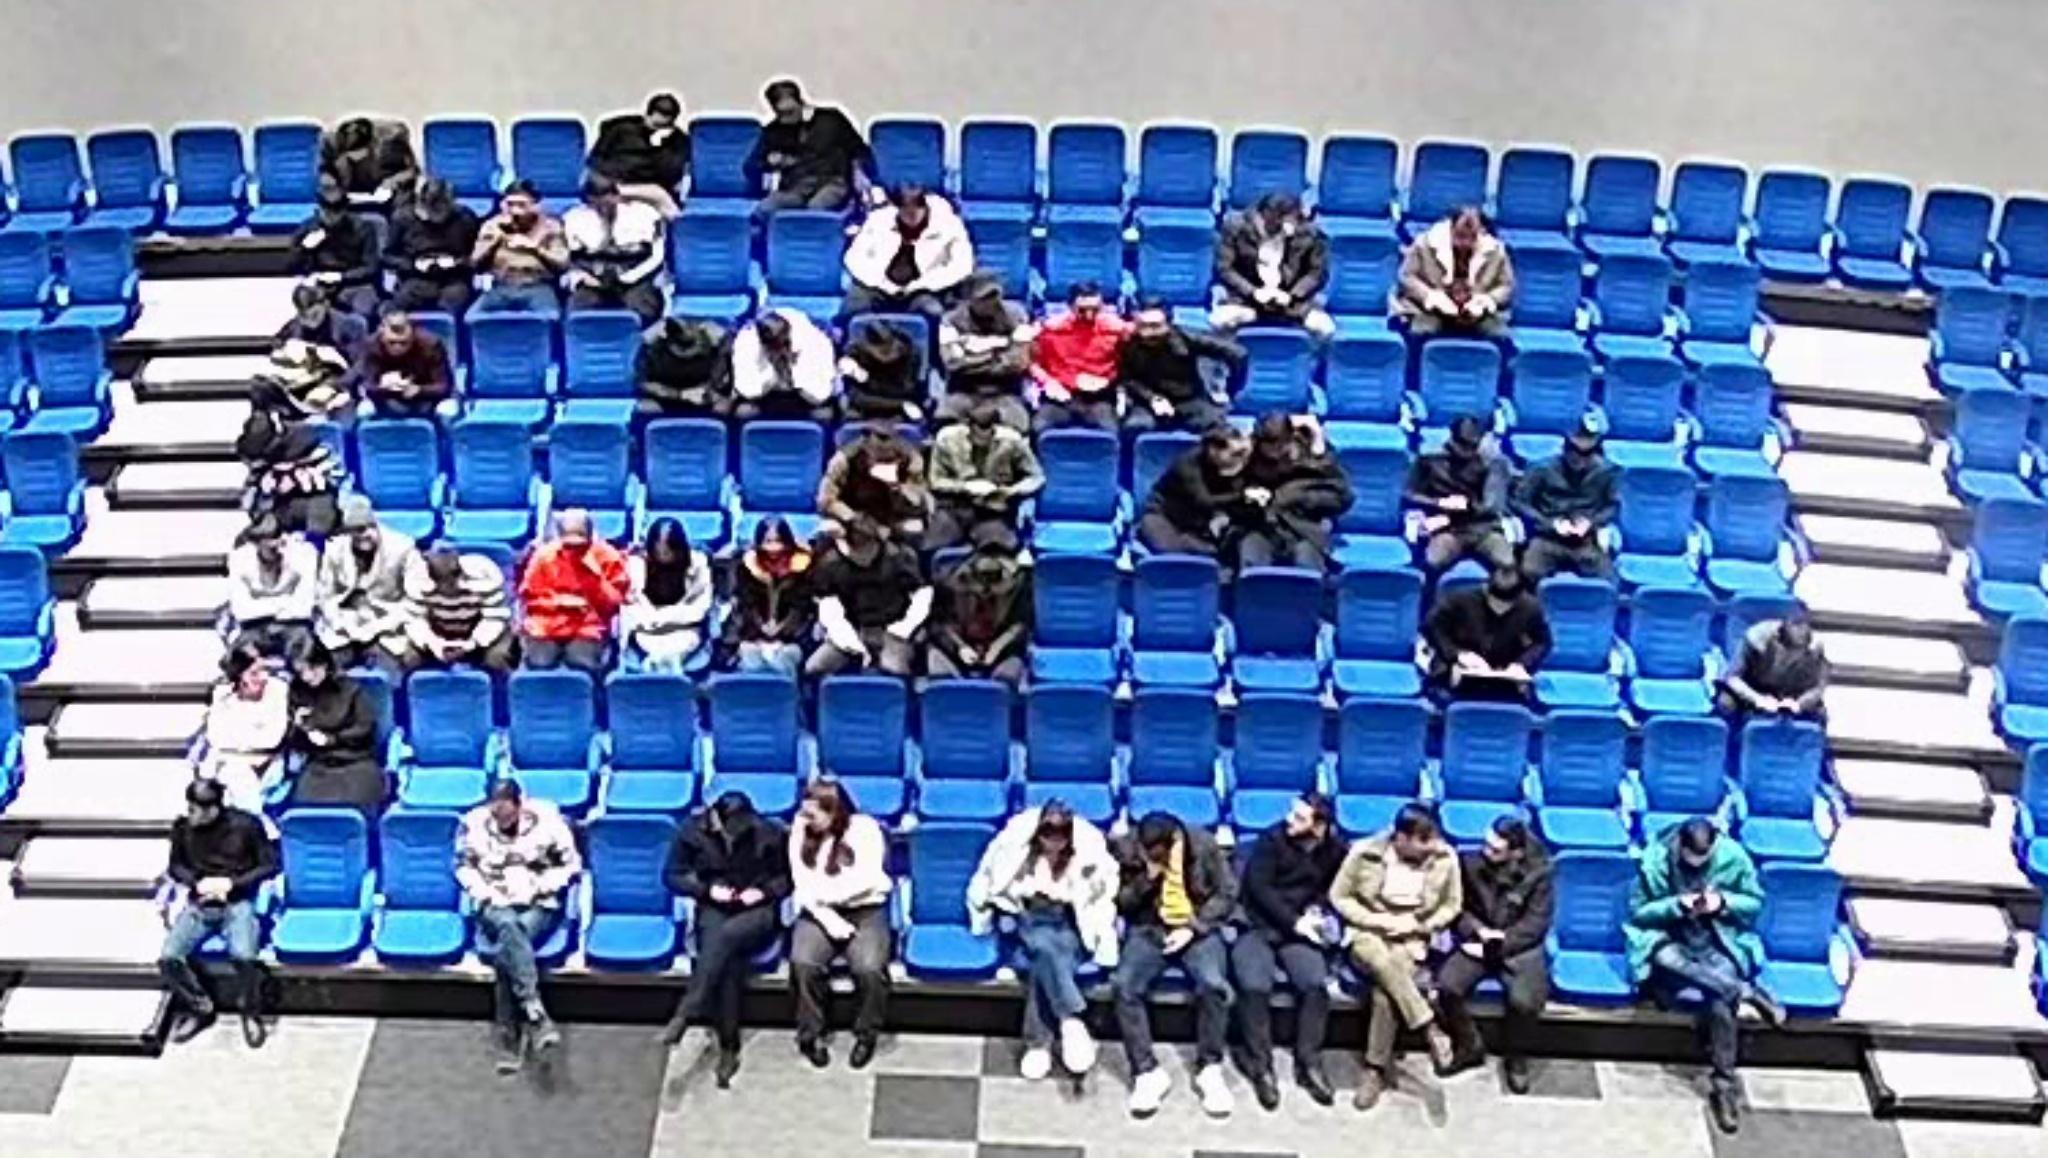empty: (902, 817, 1011, 981), (1743, 863, 1855, 1006), (267, 806, 371, 961), (1539, 846, 1641, 996), (373, 809, 471, 965), (581, 815, 684, 961), (1018, 680, 1117, 832), (913, 675, 1014, 822), (1122, 684, 1224, 823), (817, 668, 909, 817), (399, 670, 495, 812), (702, 675, 805, 808), (1696, 473, 1800, 601), (603, 674, 699, 812), (1436, 701, 1536, 832), (1227, 692, 1326, 822), (502, 666, 596, 802), (1229, 561, 1332, 687), (1618, 583, 1716, 711), (1335, 695, 1432, 823), (1030, 554, 1125, 682), (1532, 574, 1625, 705), (1129, 556, 1222, 684), (1328, 568, 1423, 692), (1319, 439, 1415, 563), (1030, 424, 1121, 549), (1682, 352, 1775, 474), (1962, 497, 2048, 629), (1611, 460, 1702, 584), (1594, 348, 1688, 467), (1536, 705, 1633, 817), (1947, 390, 2041, 505), (640, 415, 731, 530), (352, 415, 444, 528), (446, 412, 537, 526), (1933, 283, 2024, 397), (1913, 182, 2003, 297), (1633, 712, 1730, 819), (83, 125, 177, 235), (544, 412, 636, 525), (1733, 713, 1827, 822), (463, 311, 553, 424), (558, 305, 644, 422), (20, 319, 113, 426), (165, 122, 255, 232), (738, 415, 830, 521), (1754, 165, 1838, 279), (0, 425, 84, 537), (956, 205, 1042, 315), (1404, 138, 1498, 238), (1581, 246, 1674, 348), (1498, 239, 1587, 345), (667, 210, 758, 311), (1836, 174, 1916, 288), (1674, 249, 1761, 353), (1505, 343, 1595, 443), (1664, 158, 1754, 257), (1229, 324, 1322, 419), (761, 207, 850, 307), (1416, 335, 1508, 431), (1131, 218, 1221, 315), (1227, 128, 1322, 217), (1041, 212, 1127, 311), (1575, 152, 1664, 246), (1319, 331, 1407, 426), (1318, 231, 1405, 326), (1318, 134, 1398, 236), (1491, 146, 1580, 238), (422, 115, 506, 211), (248, 122, 324, 228), (60, 224, 135, 331), (684, 110, 762, 207), (509, 114, 594, 204), (1135, 124, 1220, 214), (958, 120, 1041, 210), (1045, 121, 1128, 211), (0, 224, 69, 332), (868, 115, 951, 203), (4, 129, 79, 225)
